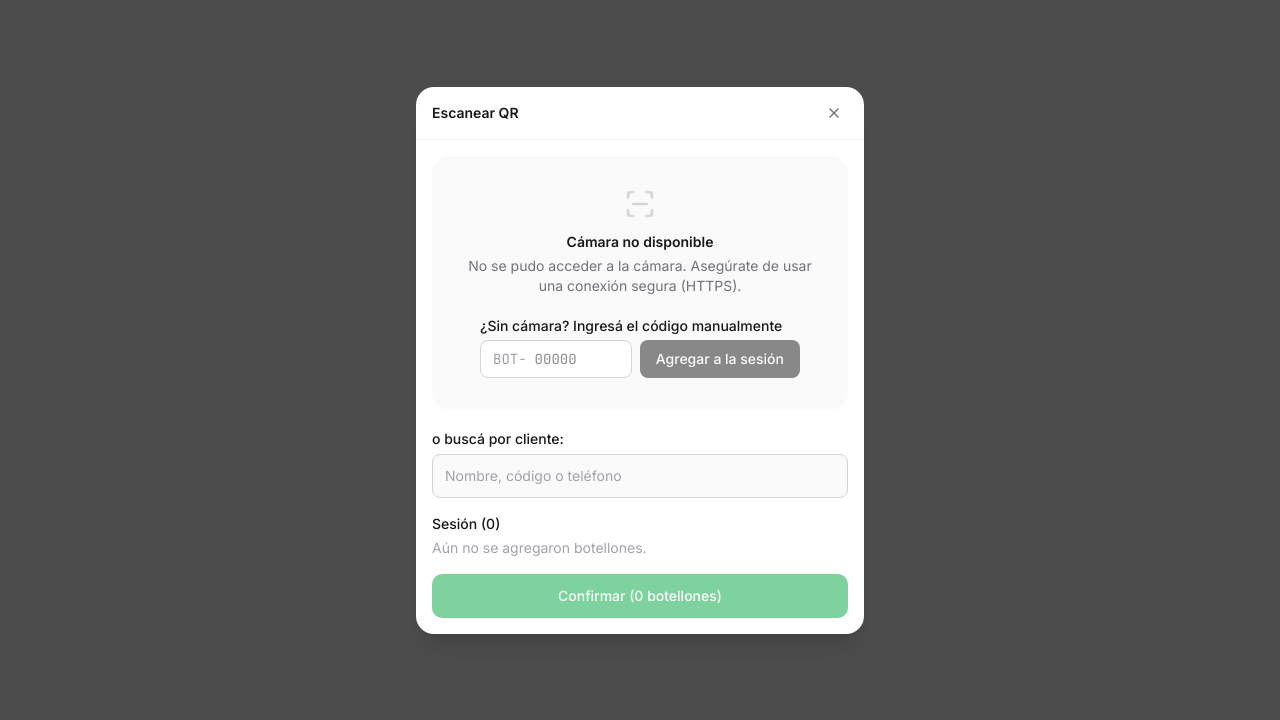
Scenario: ScannerModal — manual entry (camera-less fallback) › shows "Botellón no encontrado" for an unknown code and does not accumulate it
In the field labelled "¿Sin cámara? Ingresá el código manualmente": (579, 358) [527, 340, 631, 376], type "99999"
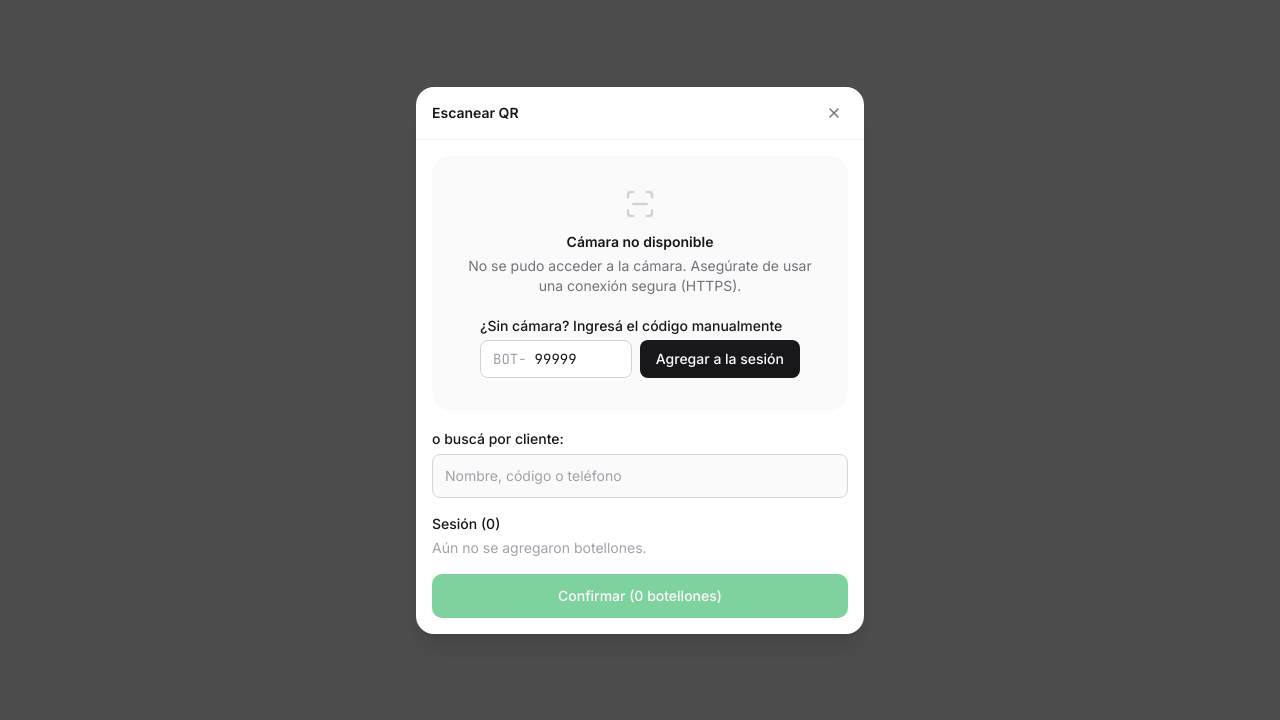
Click the button "Agregar a la sesión": (720, 358) [640, 340, 800, 378]
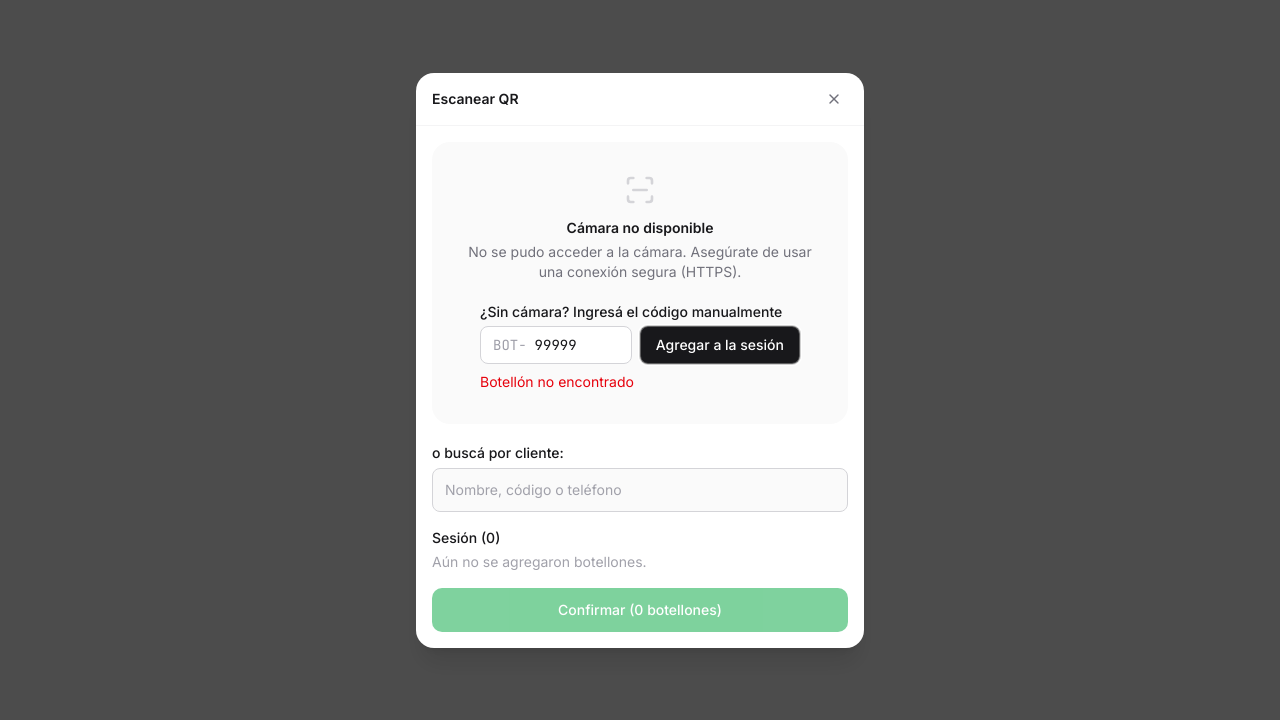
Expected: the text "Aún no se agregaron botellones." is shown, [432, 552, 647, 570]
Expected: the text "Botellón no encontrado" is shown, [480, 372, 634, 390]
